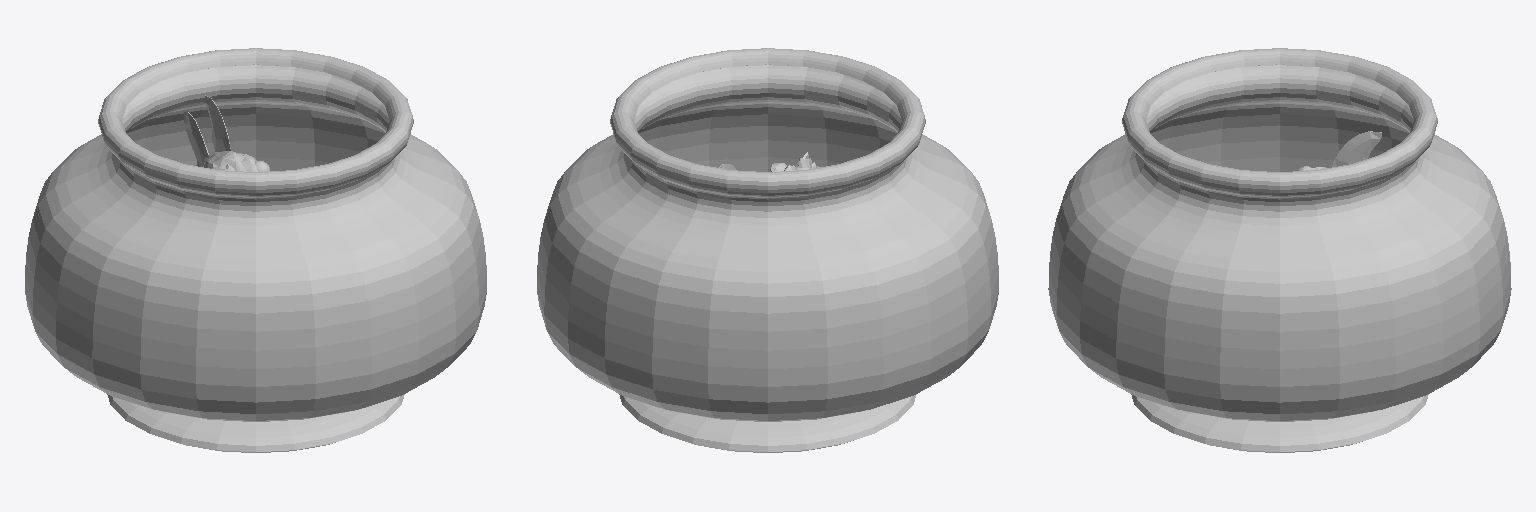
Rendered from FishAndBowlAndReptar.obj.
3 views of the same model, side by side, from view 1: azimuth 30°, elevation 25°; view 2: azimuth 150°, elevation 25°; view 3: azimuth 270°, elevation 25° (orthographic).
Parts seen in each view (by area): view 1: Fish_Bowl, polySurface4 Fish_Mesh; view 2: Fish_Bowl; view 3: Fish_Bowl, polySurface4 Fish_Mesh.
Boxes of the visible parts, <box> form: Fish_Bowl: <box>25,48,486,452</box>; polySurface4 Fish_Mesh: <box>183,95,257,171</box>; Fish_Bowl: <box>537,48,998,452</box>; Fish_Bowl: <box>1048,48,1511,452</box>; polySurface4 Fish_Mesh: <box>1306,131,1381,170</box>.
Size of the model in its own units: 18.01 by 12.43 by 18.01.